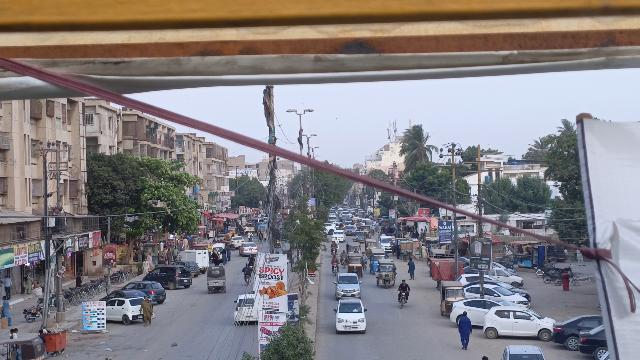Bike: (396, 289, 412, 310), (330, 262, 340, 273), (243, 274, 252, 286)
Car: (484, 304, 555, 341), (550, 312, 602, 350), (462, 283, 533, 310), (449, 297, 506, 327), (331, 296, 370, 336), (141, 264, 193, 291), (105, 296, 145, 325), (576, 324, 606, 359), (124, 280, 168, 302), (498, 342, 551, 360), (231, 291, 256, 326), (334, 273, 364, 299), (345, 252, 364, 278)
Person: (454, 309, 475, 352), (139, 296, 155, 329), (0, 294, 12, 325), (406, 257, 417, 282), (397, 278, 412, 294), (242, 262, 253, 275), (330, 253, 339, 262)
Rickshaw: (439, 279, 465, 316), (375, 257, 398, 291), (204, 264, 228, 296)
Truck: (174, 248, 210, 273)
